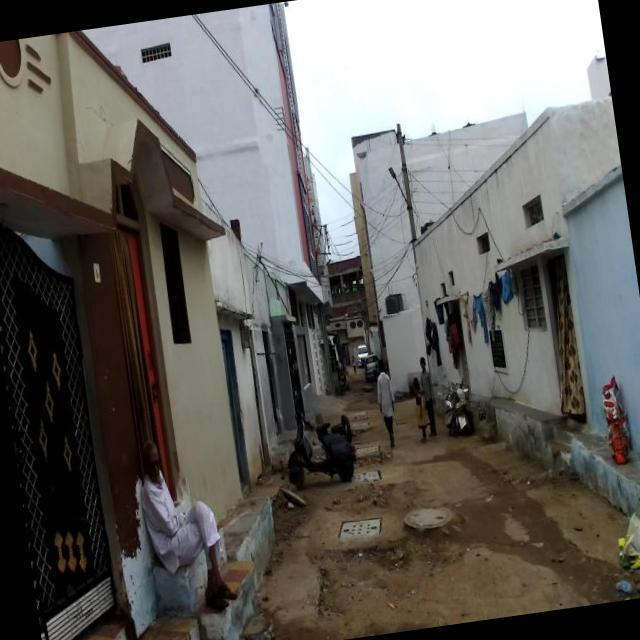Pothole: (404, 508, 452, 529), (339, 518, 381, 540), (351, 470, 381, 484), (356, 445, 380, 458), (347, 410, 367, 420), (351, 421, 369, 431)
